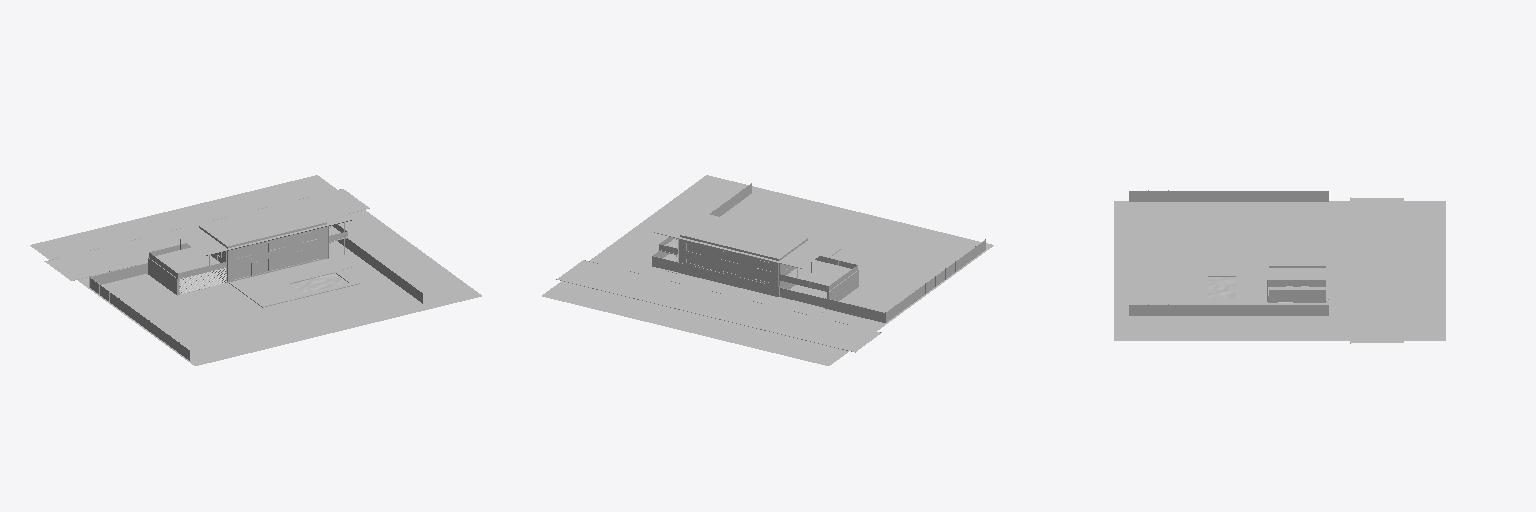
Rendered from ModernHouse.obj.
3 renders of one model, left to right at view 1: azimuth 30°, elevation 25°; view 2: azimuth 150°, elevation 25°; view 3: azimuth 270°, elevation 25°, orthographic.
Parts seen in each view (by area): view 1: Ground_Plane.002, Roof_Cube.004, Street2_Plane.011, Patio_Cube.015, Fence03_Cube.037, Walls_Main_Cube, Balcony_Cube.008, Ground_floor_glasswall_Cube.007, Railing_Plane, water_Cube.041, Fence04.001_Cube.038, Shades_Cube.010; view 2: Ground_Plane.002, Street2_Plane.011, Roof_Cube.004, Walls_Main_Cube, Fence03_Cube.037, Balcony_Cube.008, Fence04_Cube.017, Railing_Plane, Driveway_Plane.005, Fence04.001_Cube.038; view 3: Ground_Plane.002, Street2_Plane.011, Roof_Cube.004, Fence03_Cube.037, Patio_Cube.015, water_Cube.041, Walls_Main_Cube.
Boxes of the visible parts, box(x1,y1,x2,y2) form: Ground_Plane.002: box(30, 175, 481, 365); Roof_Cube.004: box(173, 196, 353, 255); Street2_Plane.011: box(45, 189, 368, 280); Patio_Cube.015: box(229, 259, 359, 307); Fence03_Cube.037: box(89, 238, 422, 360); Walls_Main_Cube: box(211, 226, 328, 282); Balcony_Cube.008: box(148, 247, 226, 295); Ground_floor_glasswall_Cube.007: box(235, 246, 320, 280); Railing_Plane: box(149, 224, 347, 278); water_Cube.041: box(292, 273, 347, 292); Fence04.001_Cube.038: box(90, 263, 147, 284); Shades_Cube.010: box(179, 268, 226, 293); Ground_Plane.002: box(542, 175, 993, 365); Street2_Plane.011: box(558, 260, 880, 351); Roof_Cube.004: box(654, 209, 833, 268); Walls_Main_Cube: box(679, 239, 795, 289); Fence03_Cube.037: box(653, 183, 985, 322); Balcony_Cube.008: box(781, 260, 858, 300); Fence04_Cube.017: box(676, 261, 779, 296); Railing_Plane: box(659, 237, 857, 291); Driveway_Plane.005: box(768, 285, 826, 316); Fence04.001_Cube.038: box(825, 298, 884, 322); Ground_Plane.002: box(1114, 201, 1445, 340); Street2_Plane.011: box(1351, 198, 1403, 342); Roof_Cube.004: box(1265, 207, 1328, 279); Fence03_Cube.037: box(1129, 190, 1328, 315); Patio_Cube.015: box(1201, 254, 1266, 301); water_Cube.041: box(1208, 277, 1235, 297); Walls_Main_Cube: box(1268, 280, 1325, 302).
Size of the model in its own units: 35.36 by 4.94 by 33.94.